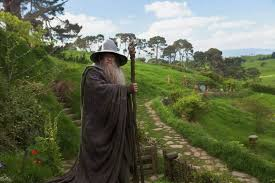gandalf grey: (79, 31, 146, 175)
